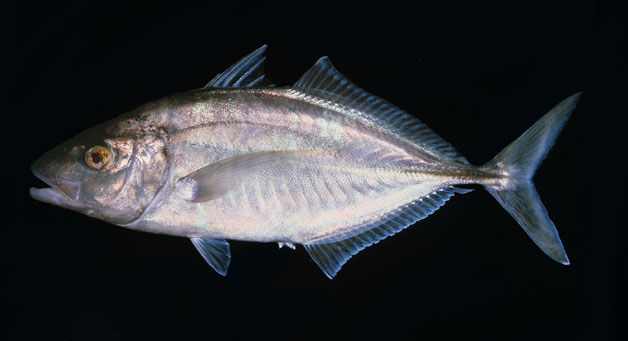fish: (30, 45, 583, 279)
